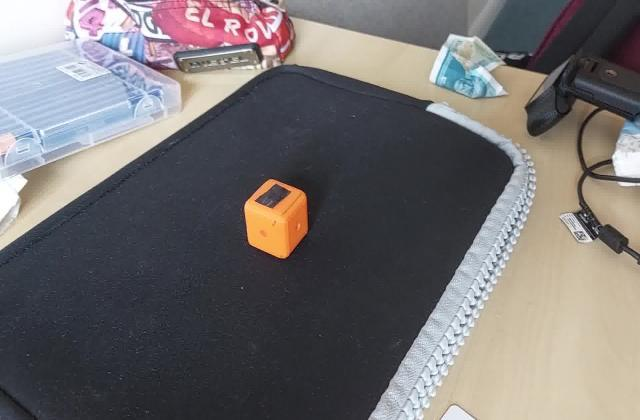black: (259, 189, 286, 210)
cube: (245, 177, 312, 261)
